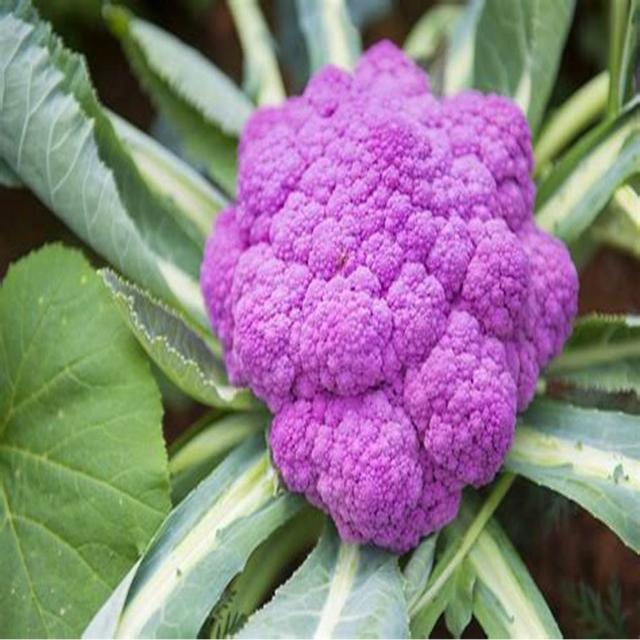Purple Broccoli: (0, 1, 640, 640)
